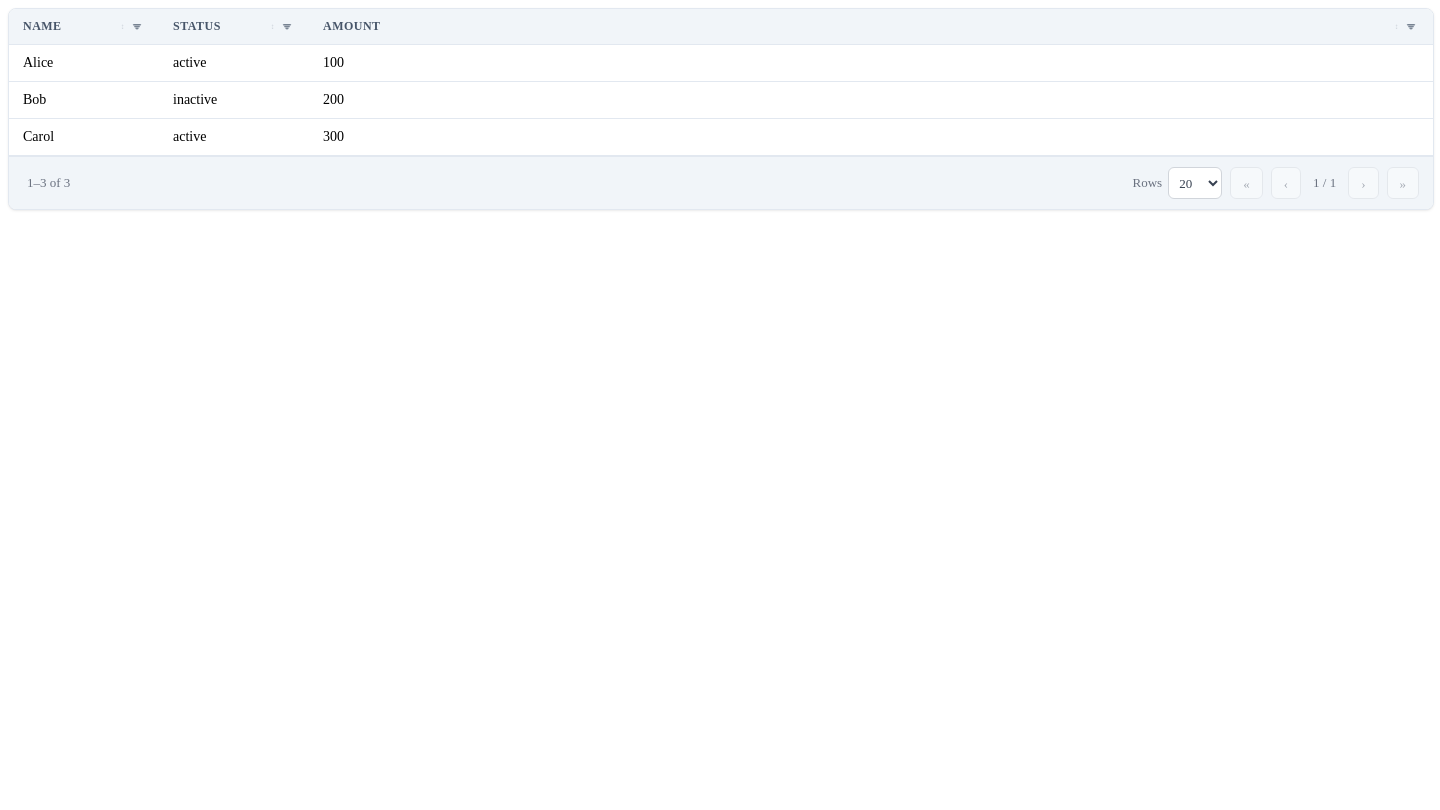
Scenario: DataGrid — filter panel › switches to a different column panel when a second filter button is clicked
The image size is (1440, 810).
Click the button named "Filter Name".
click(137, 26)  # box [129, 20, 145, 34]
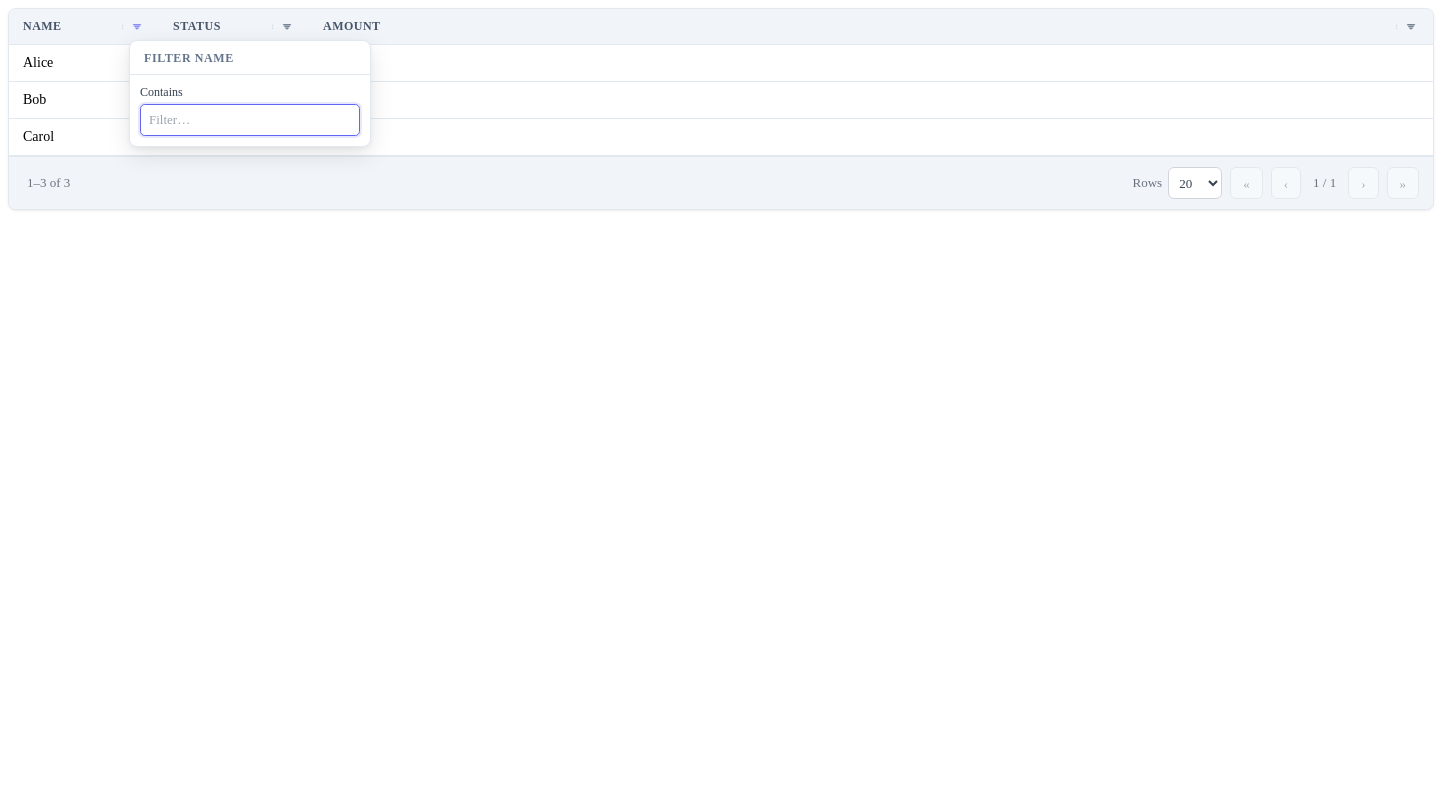
expect the dialog "Filter Name" is shown: met, box [129, 40, 371, 146]
Click the button named "Filter Status".
click(287, 26)  # box [279, 20, 295, 34]
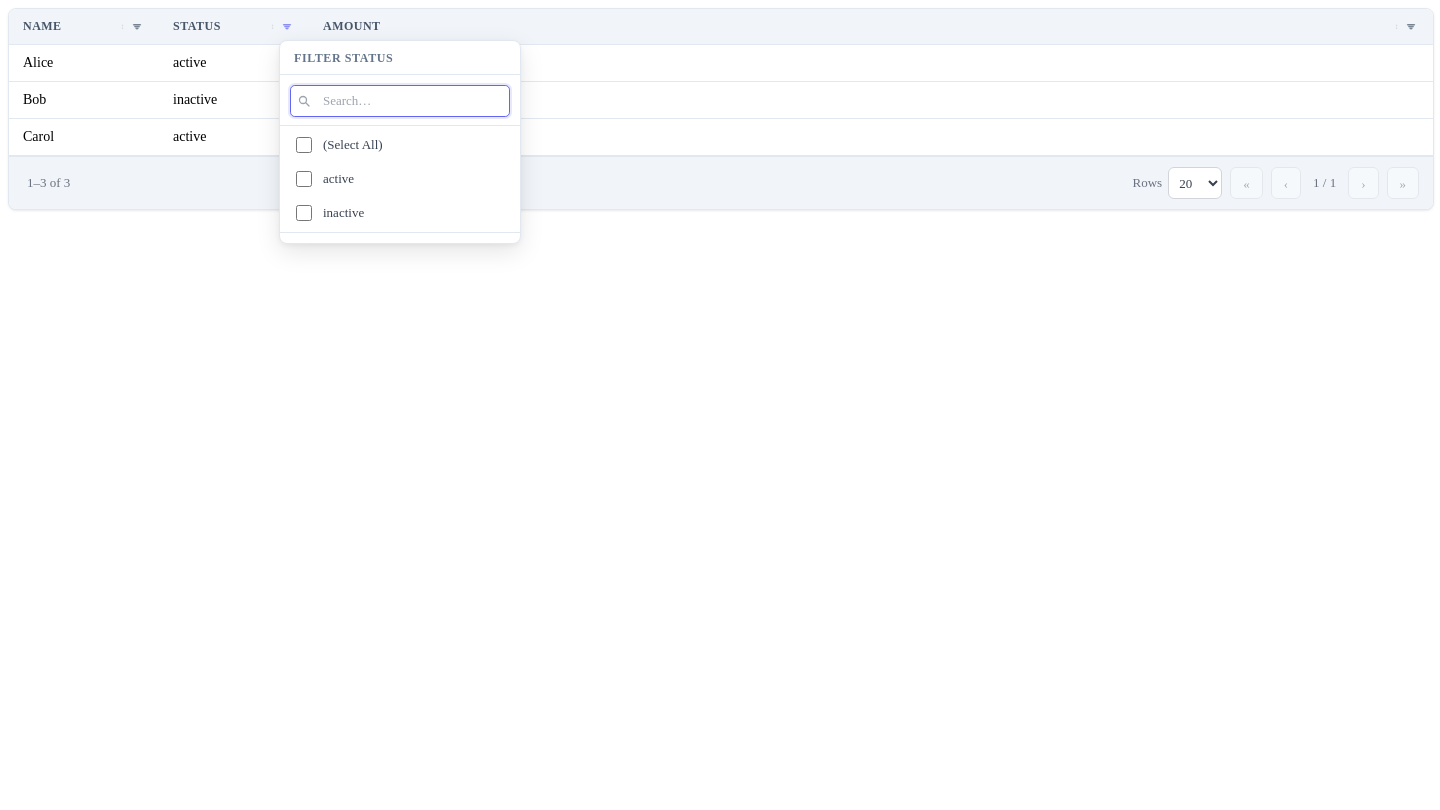
expect the text "Filter Name" is gone: met
expect the dialog "Filter Status" is shown: met, box [279, 40, 521, 244]
